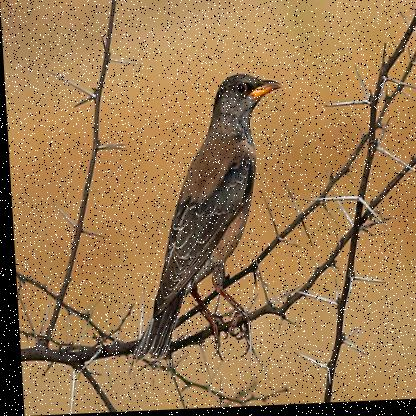Burung: (114, 74, 292, 370)
